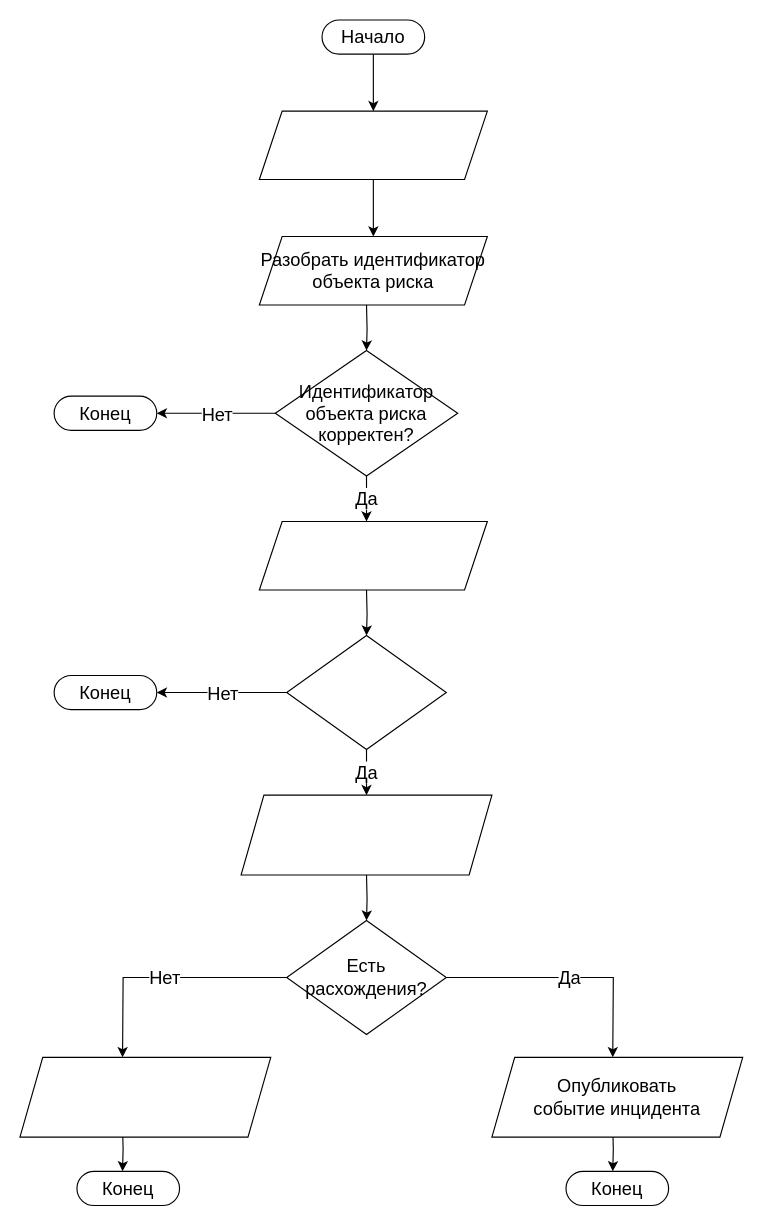
The diagram is 763 pixels wide and 1226 high, and some of its shapes have lost their labels. The centre of each missing label's shape, as x and y in pixels:
"Выполнить скрипты всех правил и собрать результаты" goes at pixel 366 834.
"Загрузить правила для объекта риска" goes at pixel 372 555.
"Найдены правила?" goes at pixel 366 692.
"Получить данные мониторинга" goes at pixel 372 145.
"Сохранить результат успешной верификации" goes at pixel 145 1096.
